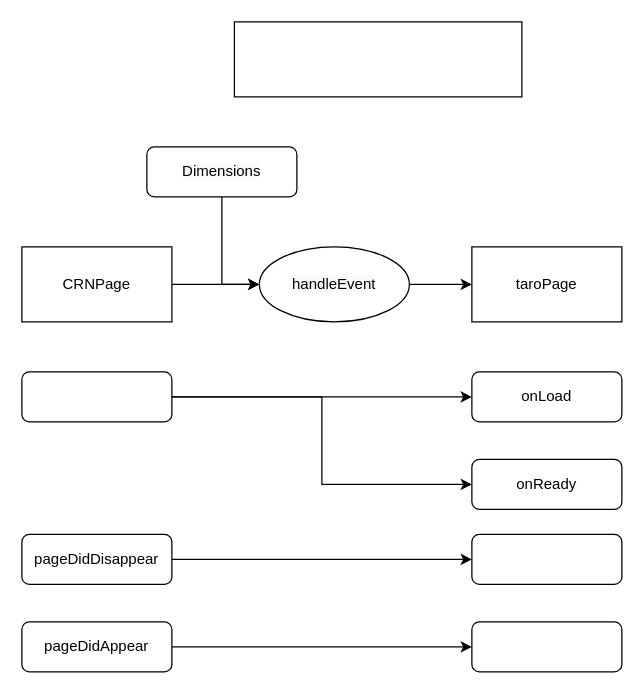
This 644x694 diagram has some shape labels left out. The centre of each missing label's shape, as x and y in pixels:
componentDidHide: the point at 546,558
componentDidMount: the point at 96,396
componentDidShow: the point at 546,646
页面级生命周期转换: the point at 377,59
